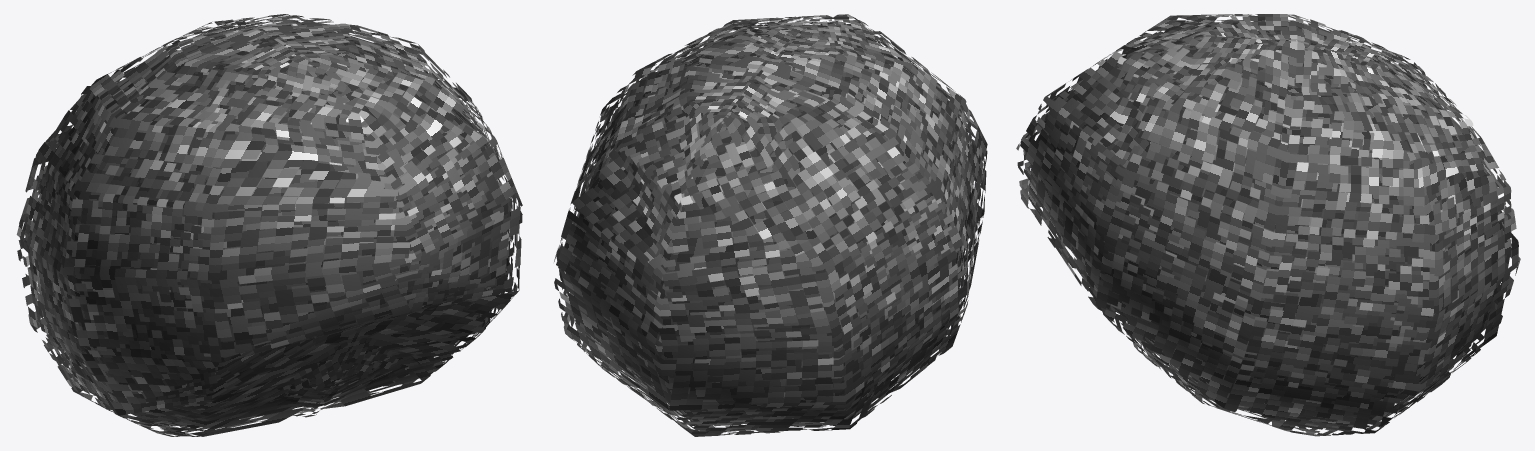
The model's file is f_head020.glb.
The picture shows the model from 3 angles, left to right: view 1: azimuth 30°, elevation 25°; view 2: azimuth 150°, elevation 25°; view 3: azimuth 270°, elevation 25°; orthographic projection. The views are drawn at different scales.
Size of the model in its own units: 24.88 by 22.1 by 27.33.
Materials: 1 (1 with a texture image).
